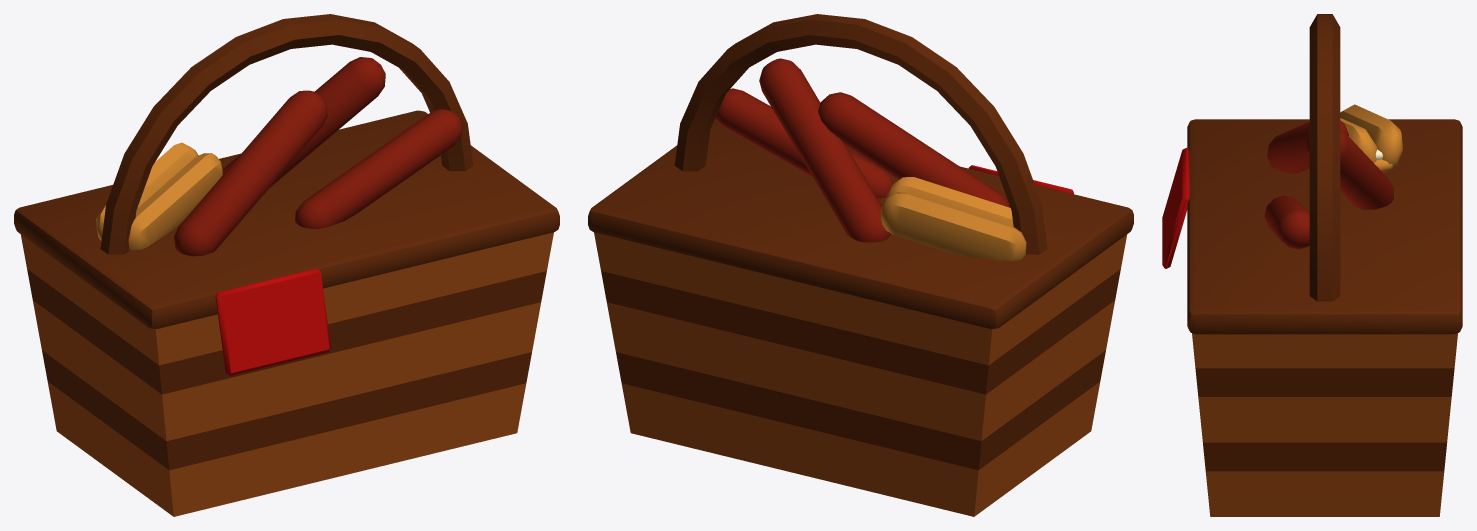
File: Basket.fbx
3 views of the same model, side by side, from view 1: azimuth 30°, elevation 25°; view 2: azimuth 150°, elevation 25°; view 3: azimuth 270°, elevation 25° (orthographic). The views are drawn at different scales.
Parts seen in each view (by area): view 1: Basket; view 2: Basket; view 3: Basket.
Part boxes in pixels (x1,y1,x2,y2): Basket: (14, 14, 559, 516); Basket: (588, 14, 1133, 516); Basket: (1162, 14, 1462, 516).
Bounding box in the file's own units: 2.76 × 2.63 × 1.78.
